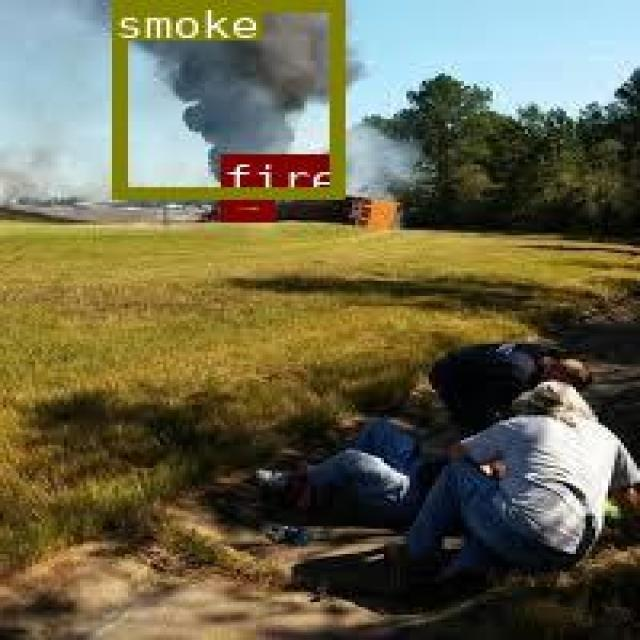fire: (220, 195, 272, 219)
smoke: (108, 0, 339, 197)
